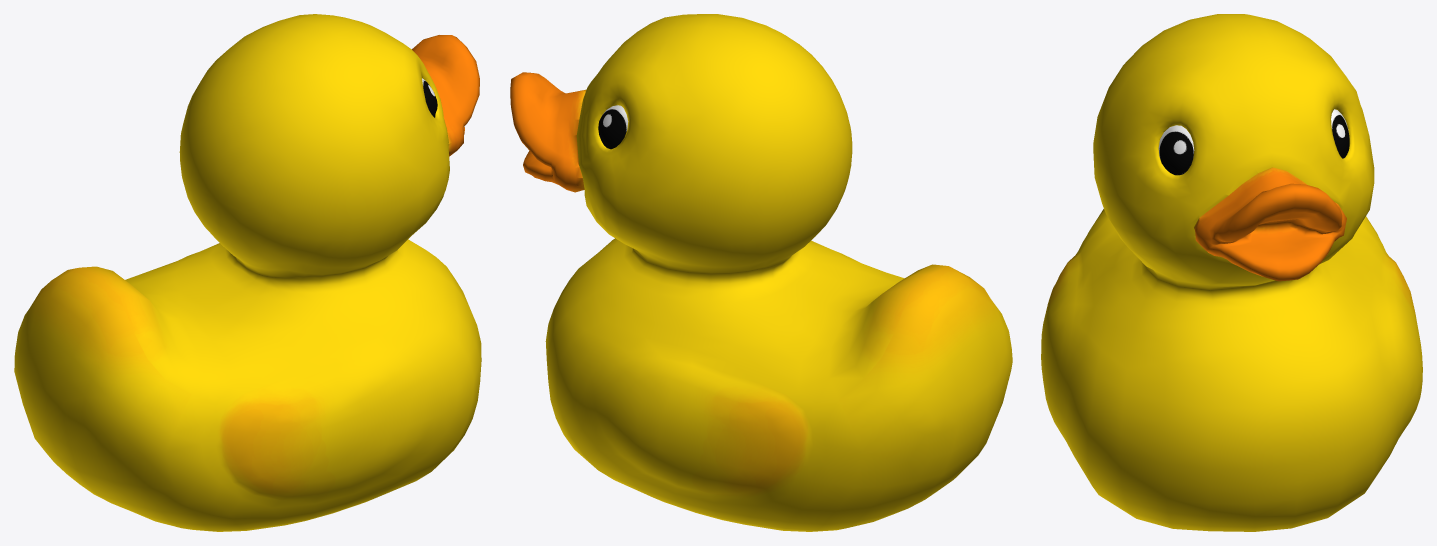
The model's file is Satellite1.glb.
3 views of the same model, side by side, from view 1: azimuth 30°, elevation 25°; view 2: azimuth 150°, elevation 25°; view 3: azimuth 270°, elevation 25° (orthographic). The views are drawn at different scales.
Parts seen in each view (by area): view 1: LOD3spShape; view 2: LOD3spShape; view 3: LOD3spShape.
Part boxes in pixels (x1=…): LOD3spShape: x1=14, y1=14, x2=481, y2=531; LOD3spShape: x1=510, y1=14, x2=1012, y2=531; LOD3spShape: x1=1041, y1=14, x2=1422, y2=531.
Size of the model in its own units: 165 by 166 by 115.
2 materials, 2 textured.
